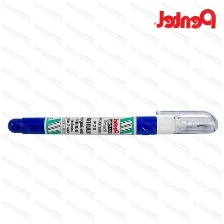correction_fluid: (5, 105, 221, 140)
